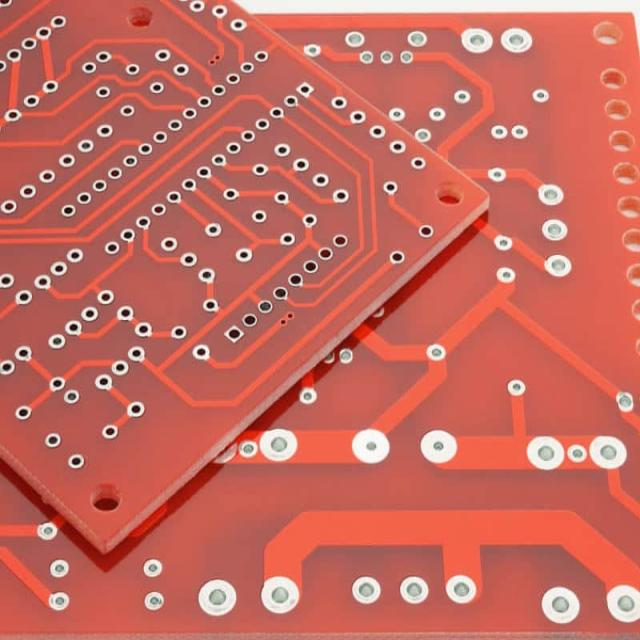pcb: (0, 1, 638, 634)
